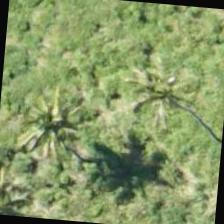Kelapa_Sawit: (106, 46, 204, 144), (5, 69, 102, 167), (0, 164, 45, 219)
